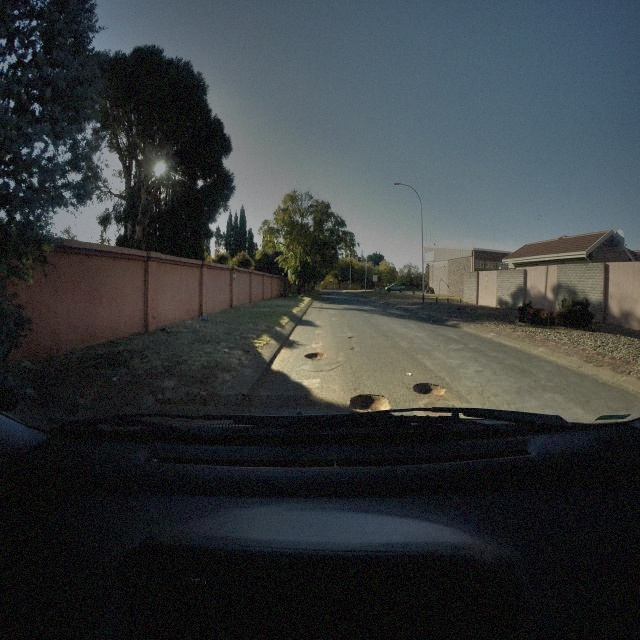pothole: (347, 392, 391, 412), (412, 381, 448, 397), (303, 350, 328, 361), (350, 345, 360, 352), (347, 335, 357, 340)
